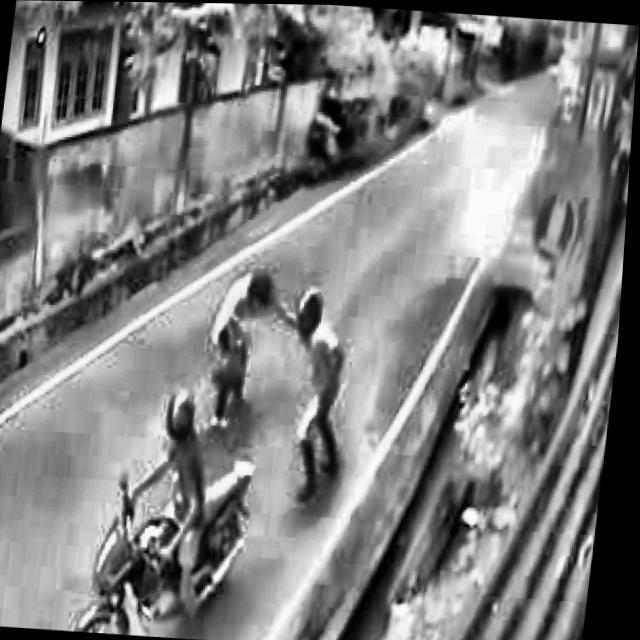robbery: (194, 263, 370, 504)
